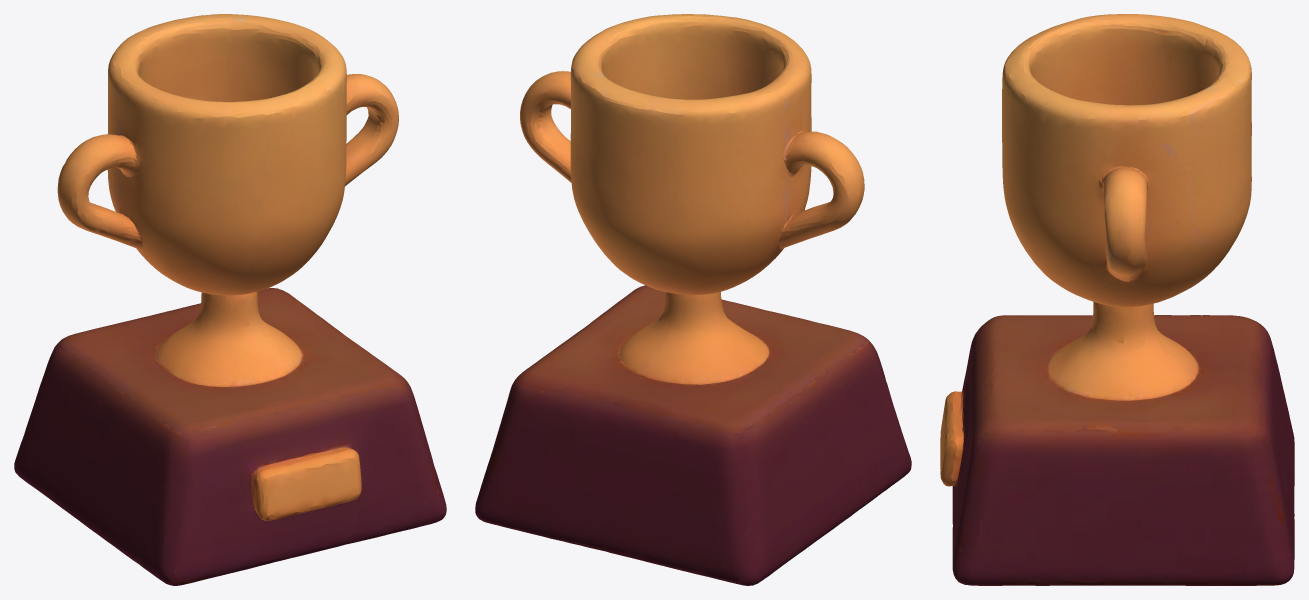
Rendered from trophy.glb.
3 views of the same model, side by side, from view 1: azimuth 30°, elevation 25°; view 2: azimuth 150°, elevation 25°; view 3: azimuth 270°, elevation 25° (orthographic). The views are drawn at different scales.
Parts seen in each view (by area): view 1: Mesh; view 2: Mesh; view 3: Mesh.
Boxes of the visible parts, left/top/right/bottom form: Mesh: left=14, top=14, right=446, bottom=585; Mesh: left=475, top=14, right=911, bottom=585; Mesh: left=940, top=14, right=1294, bottom=585.
Bounding box in the file's own units: 0.8019 × 1 × 0.7038.
Materials: 1 (1 with a texture image).
